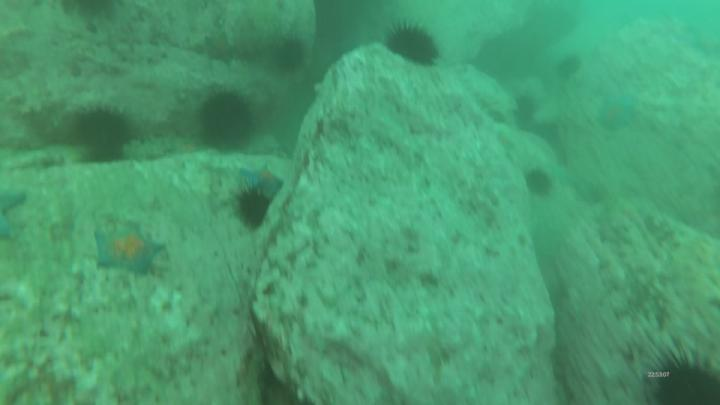echinus: (202, 91, 252, 149), (656, 364, 720, 405), (80, 114, 134, 162), (389, 25, 441, 62), (236, 188, 266, 224), (203, 32, 236, 64), (281, 39, 304, 68), (526, 169, 551, 195)
starfish: (95, 224, 163, 274), (600, 95, 634, 133), (244, 165, 285, 194)
